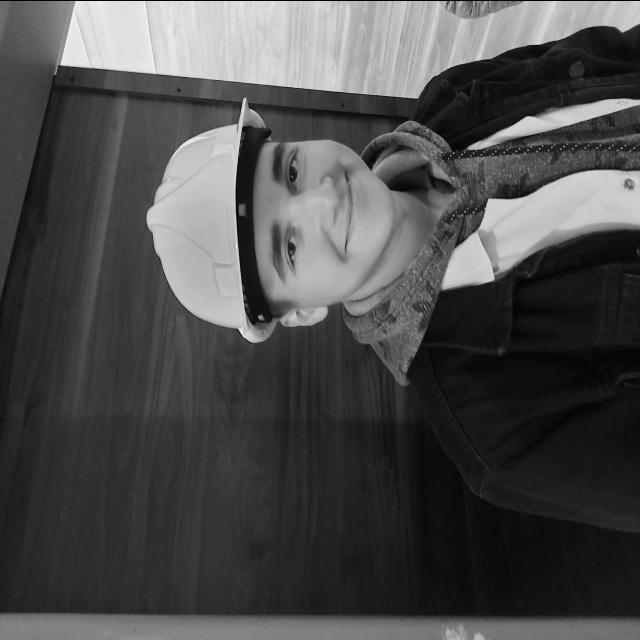safety_helmet: (148, 102, 277, 342)
